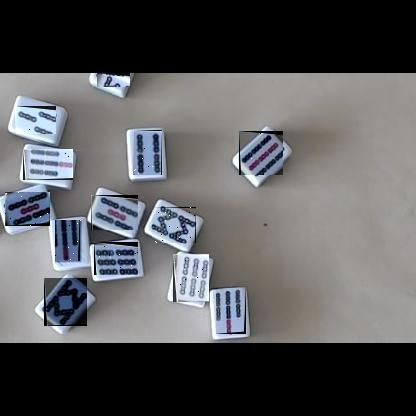3s: (15, 106, 56, 134)
4s: (133, 130, 162, 175)
5s: (91, 195, 138, 230), (5, 192, 50, 226)
6s: (173, 254, 209, 302), (94, 242, 138, 275)
7s: (23, 149, 73, 180), (216, 288, 246, 334), (56, 221, 85, 266)
8s: (44, 278, 87, 326), (152, 207, 196, 243), (96, 73, 130, 87)
9s: (239, 131, 283, 175)
